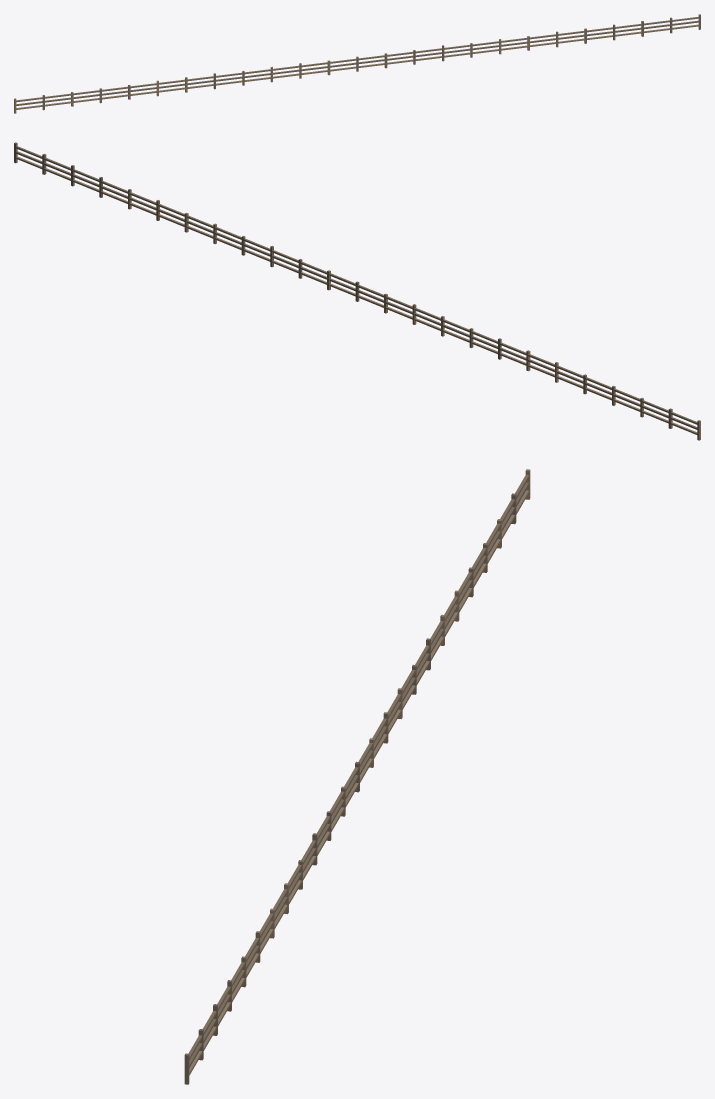
The model's file is border_00036.glb.
The picture shows the model from 3 angles, top to bottom: view 1: azimuth 30°, elevation 25°; view 2: azimuth 150°, elevation 25°; view 3: azimuth 270°, elevation 25°; orthographic projection. The views are drawn at different scales.
Parts seen in each view (by area): view 1: Fence rails, Fence posts; view 2: Fence rails, Fence posts; view 3: Fence rails, Fence posts.
Part boxes in pixels (<box>): Fence rails: <box>16,17,698,109</box>; Fence posts: <box>14,14,700,113</box>; Fence rails: <box>16,146,697,434</box>; Fence posts: <box>14,142,700,440</box>; Fence rails: <box>188,474,529,1075</box>; Fence posts: <box>184,469,530,1084</box>.
Bounding box in the file's own units: 50.28 × 1.21 × 12.52.
